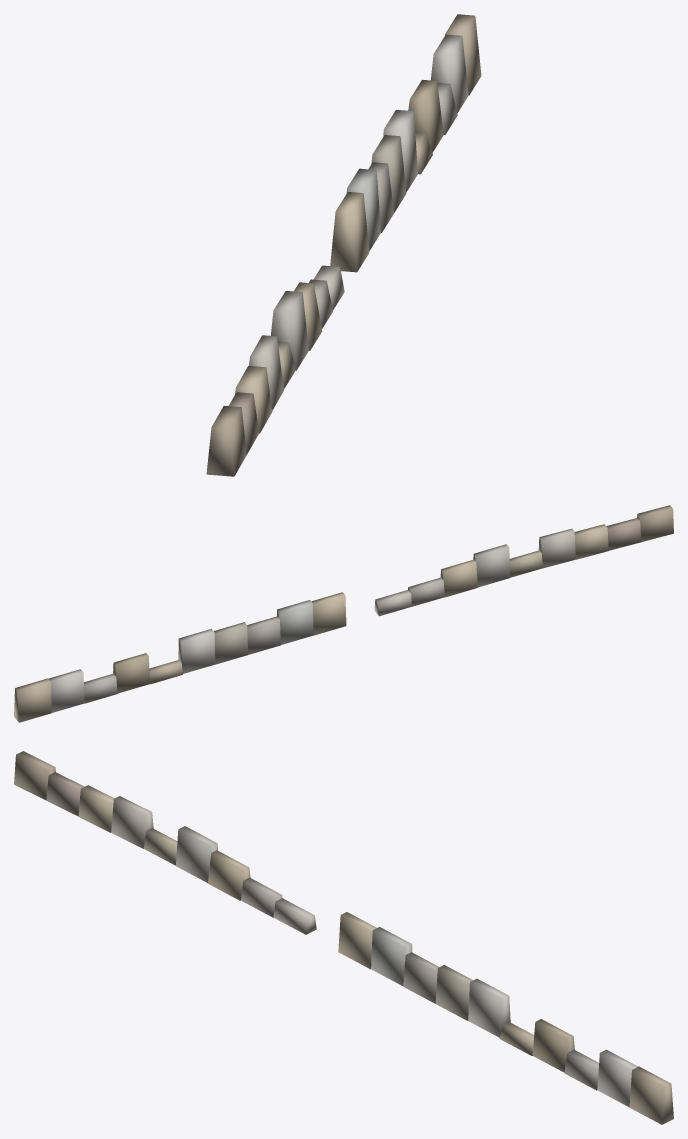
The model's file is farm_-56_-49_collision.glb.
3 views of the same model, one above another, from view 1: azimuth 30°, elevation 25°; view 2: azimuth 150°, elevation 25°; view 3: azimuth 270°, elevation 25° (orthographic). The views are drawn at different scales.
Visible parts, largest first — view 1: geometry_0; view 2: geometry_0; view 3: geometry_0.
Boxes of the visible parts, x1,y1,x2,y2 form: geometry_0: (206,14,481,476); geometry_0: (14,505,673,722); geometry_0: (14,751,673,1124).
Size of the model in its own units: 20.49 by 5.55 by 24.1.
